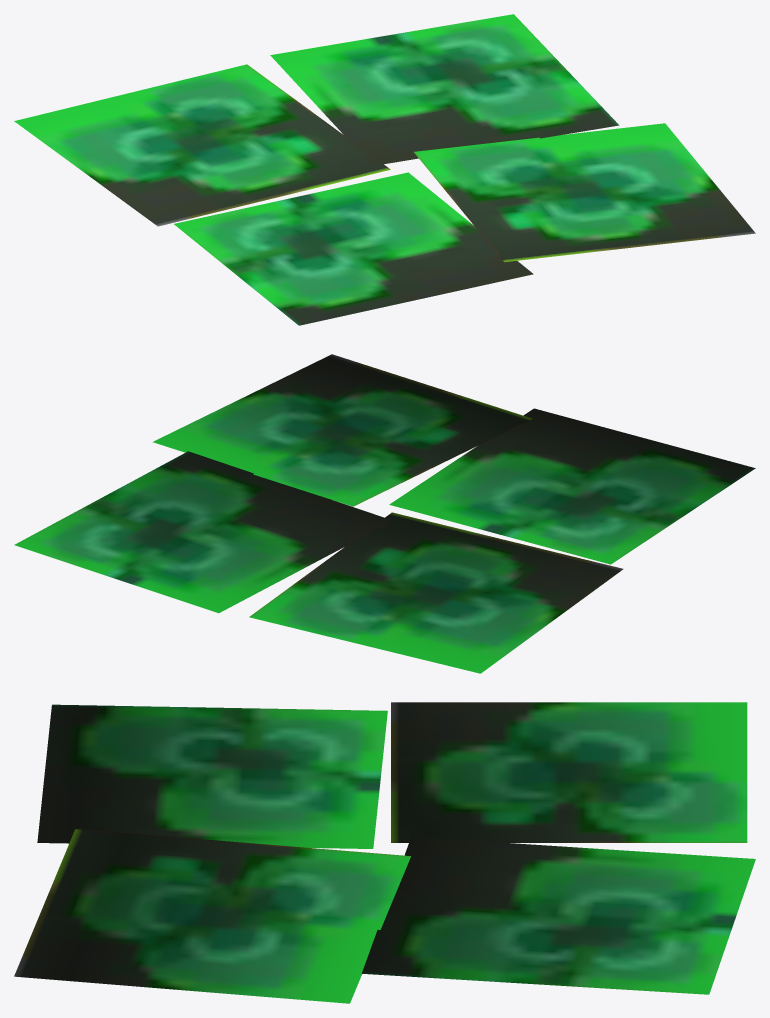
The model's file is fg_grassE.dae.
3 renders of one model, top to bottom at view 1: azimuth 30°, elevation 25°; view 2: azimuth 150°, elevation 25°; view 3: azimuth 270°, elevation 25°, orthographic. The views are drawn at different scales.
Parts seen in each view (by area): view 1: fg_grassE; view 2: fg_grassE; view 3: fg_grassE.
Boxes of the visible parts, box(x1,y1,x2,y2) form: fg_grassE: box(14, 14, 755, 325); fg_grassE: box(14, 354, 755, 673); fg_grassE: box(14, 702, 755, 1003).
Bounding box in the file's own units: 23.5 × 0.3916 × 24.87.
Materials: 1 (1 with a texture image).
